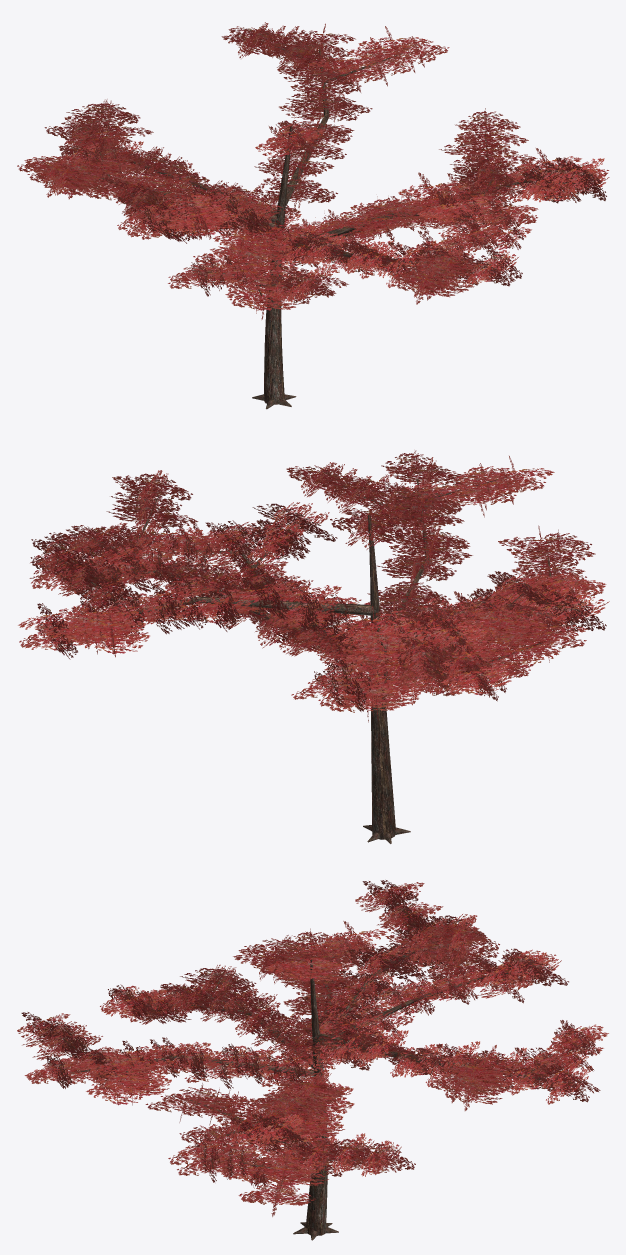
File: tree_3d_06_red_lod0.glb
3 renders of one model, top to bottom at view 1: azimuth 30°, elevation 25°; view 2: azimuth 150°, elevation 25°; view 3: azimuth 270°, elevation 25°, orthographic. The views are drawn at different scales.
Visible parts, largest first — view 1: foliage_cards, wood_geometry; view 2: foliage_cards, wood_geometry; view 3: foliage_cards, wood_geometry.
Boxes of the visible parts, x1,y1,x2,y2 form: foliage_cards: (17,22,609,319); wood_geometry: (80,40,575,409); foliage_cards: (18,450,609,722); wood_geometry: (57,478,580,843); foliage_cards: (17,880,608,1216); wood_geometry: (59,903,582,1240).
Bounding box in the file's own units: 14.66 × 7.46 × 14.25.
Materials: 2 (2 with a texture image).
